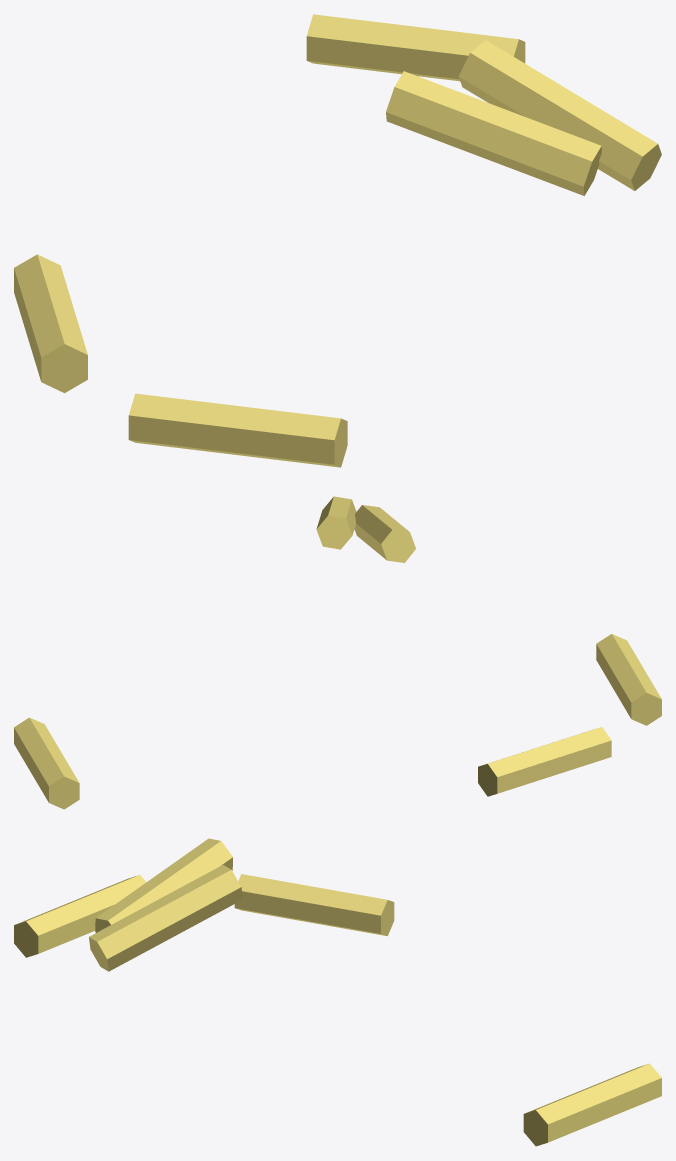
File: Cigarrettes.fbx
The picture shows the model from 3 angles, top to bottom: view 1: azimuth 30°, elevation 25°; view 2: azimuth 150°, elevation 25°; view 3: azimuth 270°, elevation 25°; orthographic projection. The views are drawn at different scales.
Parts seen in each view (by area): view 1: Puchos; view 2: Puchos; view 3: Puchos.
Part boxes in pixels (left/top/right/bottom): Puchos: left=14, top=14, right=661, bottom=467; Puchos: left=14, top=496, right=661, bottom=809; Puchos: left=14, top=838, right=661, bottom=1146.
Bounding box in the file's own units: 0.935 × 0.3347 × 1.03.
